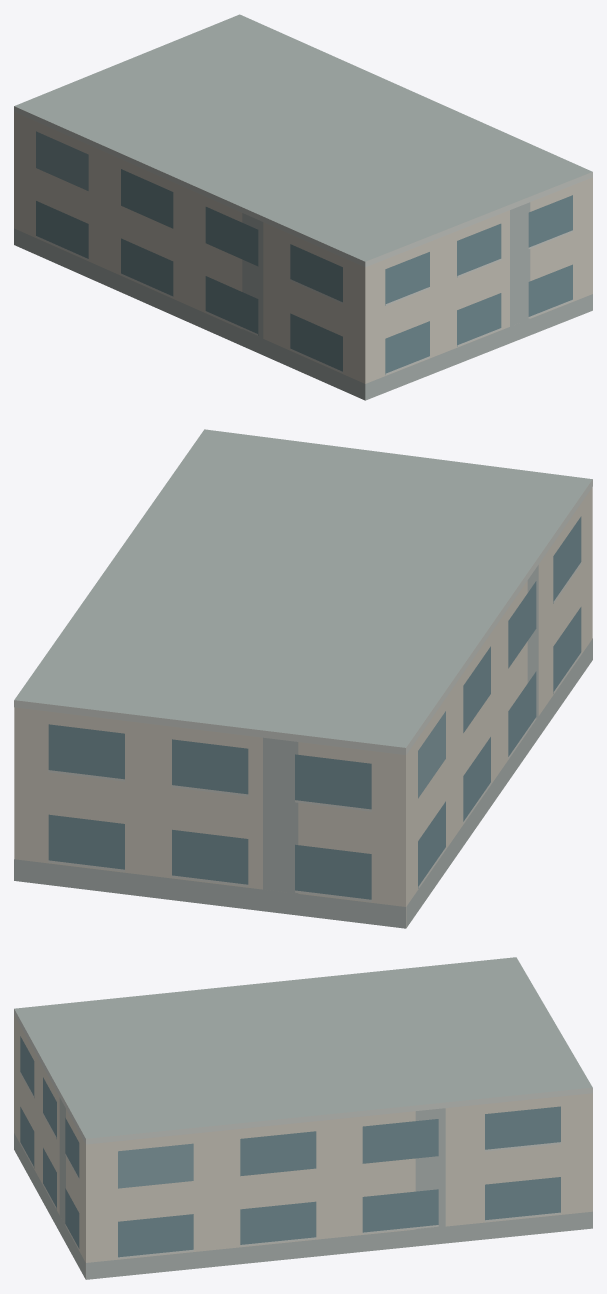
Rendered from survey-upis-33036344.glb.
3 views of the same model, one above another, from view 1: azimuth 30°, elevation 25°; view 2: azimuth 150°, elevation 25°; view 3: azimuth 270°, elevation 25° (orthographic). The views are drawn at different scales.
Visible parts, largest first — view 1: survey-upis-33036344.tmp; view 2: survey-upis-33036344.tmp; view 3: survey-upis-33036344.tmp.
Part boxes in pixels (bbox=[...]): survey-upis-33036344.tmp: bbox=[14, 14, 592, 400]; survey-upis-33036344.tmp: bbox=[14, 429, 592, 928]; survey-upis-33036344.tmp: bbox=[14, 957, 592, 1279].
Bounding box in the file's own units: 16.89 × 6.1 × 22.72.
